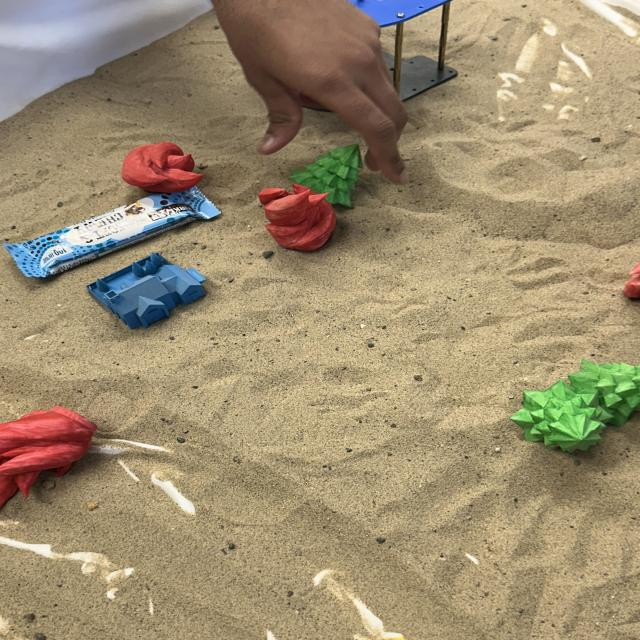fire: (0, 404, 99, 501), (256, 181, 340, 251), (121, 142, 204, 190)
house: (84, 250, 209, 330)
tree: (508, 379, 604, 455), (289, 143, 364, 212), (567, 354, 640, 421)
